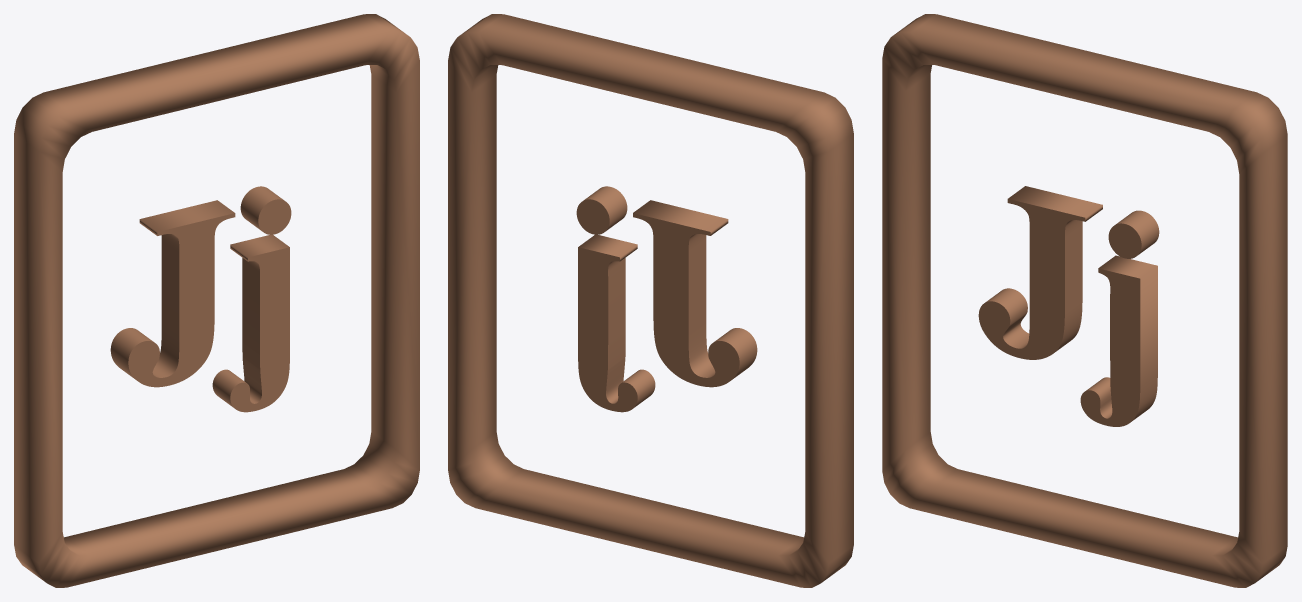
Rendered from Letter_J.gltf.
3 views of the same model, side by side, from view 1: azimuth 30°, elevation 25°; view 2: azimuth 150°, elevation 25°; view 3: azimuth 330°, elevation 25° (orthographic).
Visible parts, largest first — view 1: Letters.011; view 2: Letters.011; view 3: Letters.011.
Boxes of the visible parts, x1=… form: Letters.011: x1=14, y1=14, x2=419, y2=587; Letters.011: x1=448, y1=14, x2=853, y2=587; Letters.011: x1=882, y1=14, x2=1287, y2=587.
Bounding box in the file's own units: 1.25 × 1.49 × 0.1418.
